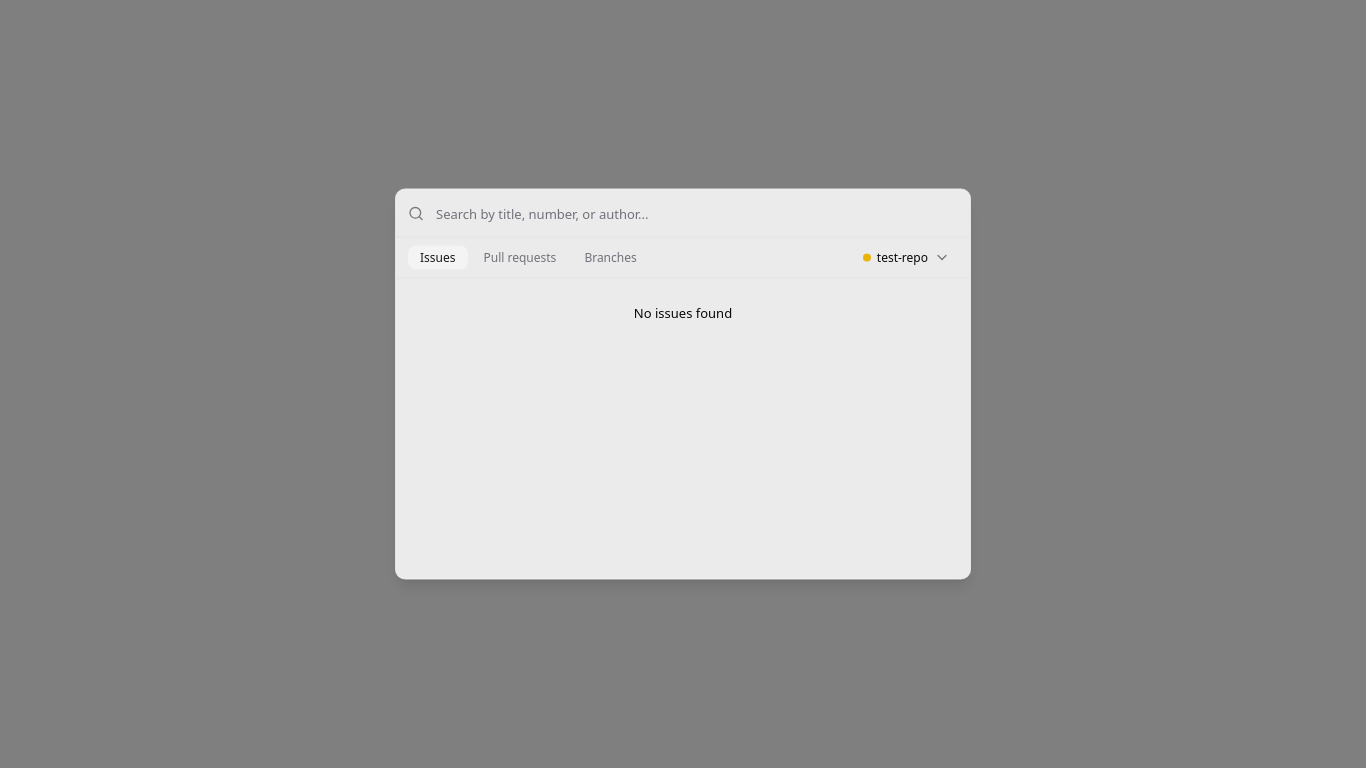
Test: CreateSessionModal › filters PRs by search term
Switch to PR tab and wait for PRs to load
Step 1. Click the button "Pull requests" → (520, 258), box [472,246,568,270]
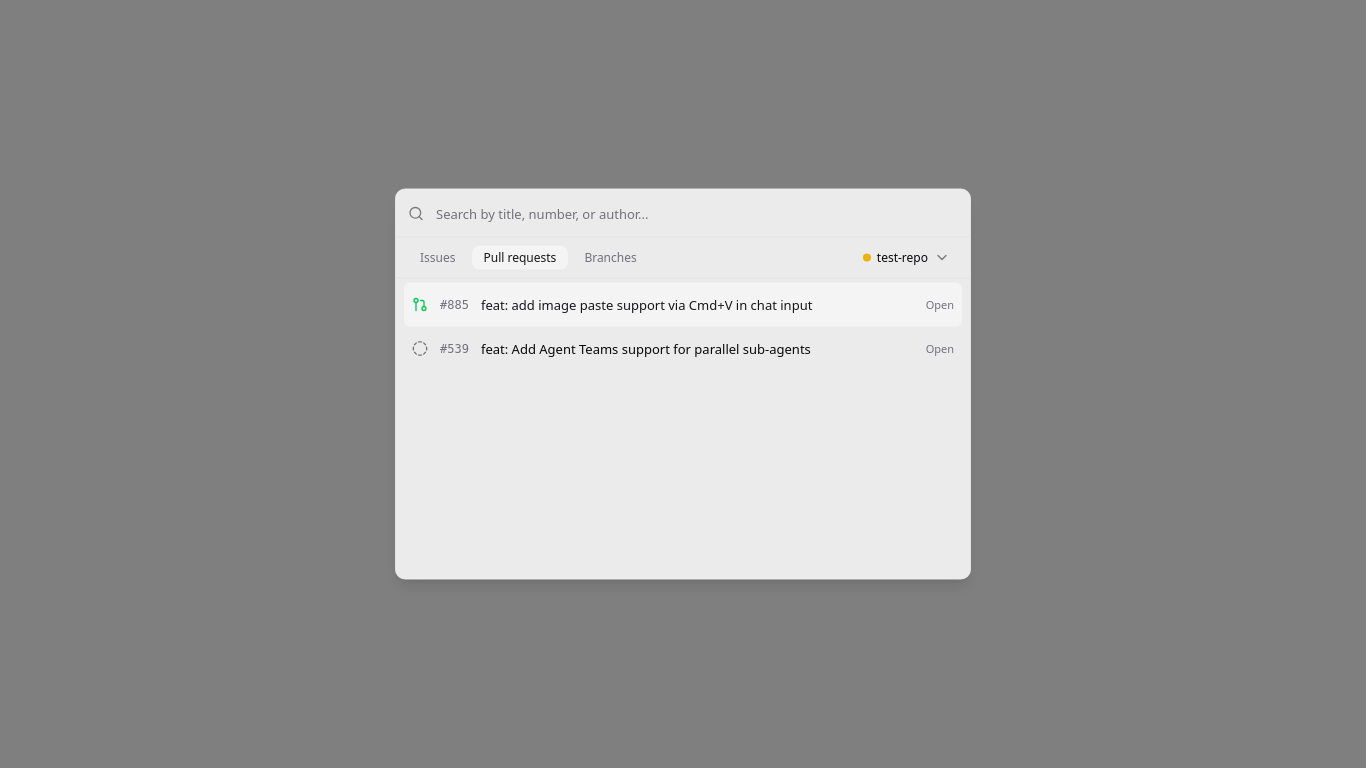
Now the text "#885" is shown, box [440,296,469,312]
Type search
Step 2. Type "Agent" into the dropdown with placeholder "Search by title, number, or author..." → (697, 213), box [436,189,958,237]
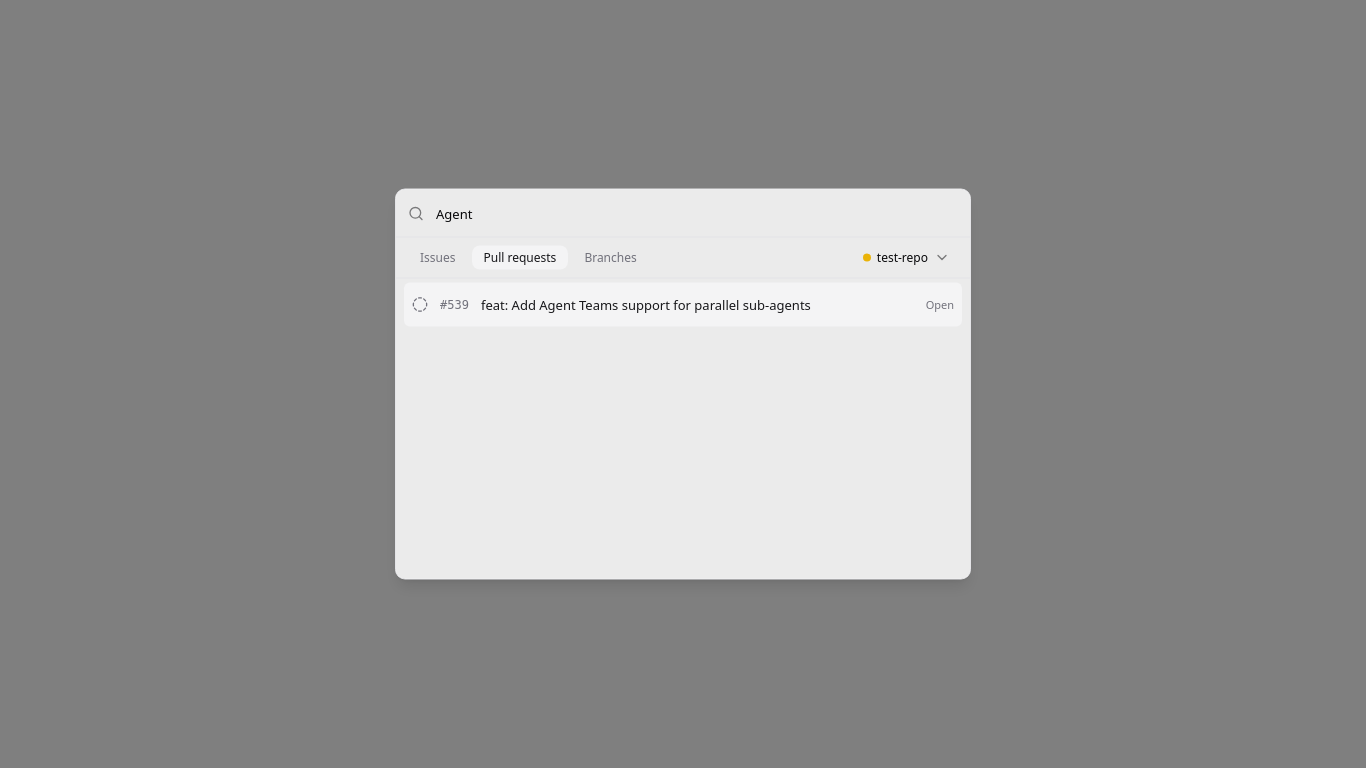
Now the text "#539" is shown, box [440,296,469,312]
Now the option "#885" is gone
